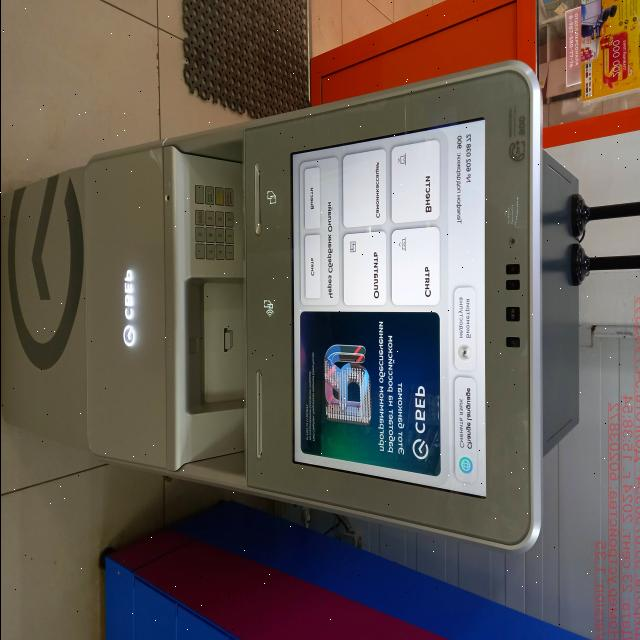bank: (0, 62, 579, 551)
